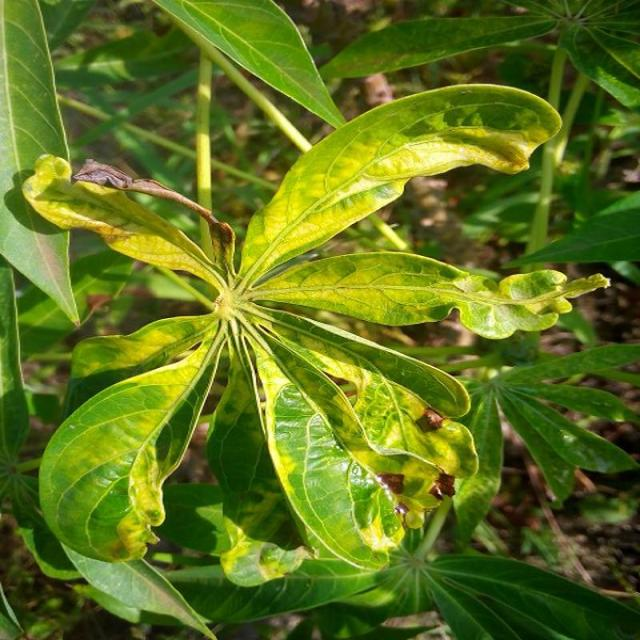cassava leaf: (21, 76, 595, 580), (238, 81, 564, 288)
